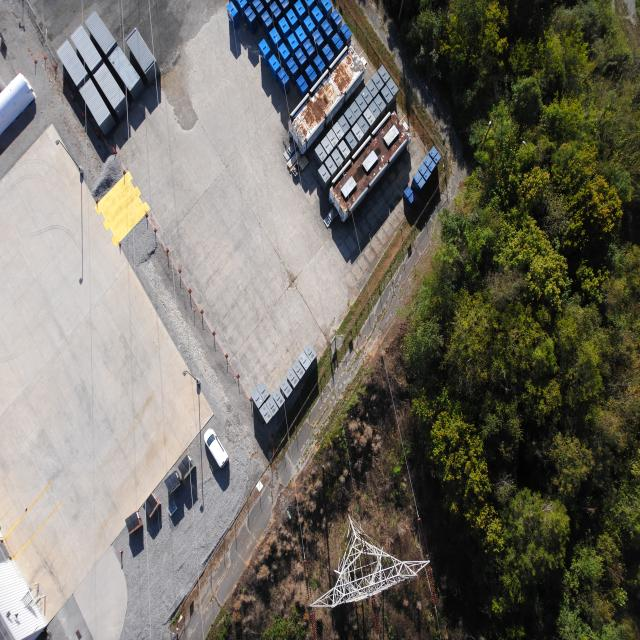Area of Interest: (394, 2, 636, 627)
